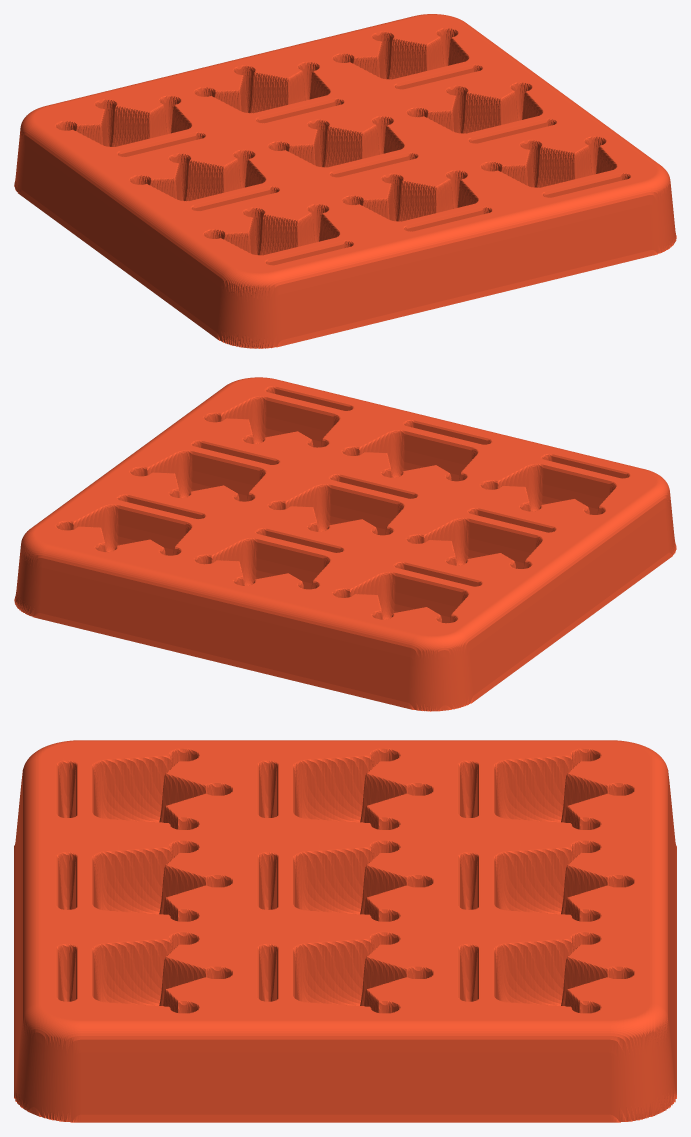
File: mold.glb
The picture shows the model from 3 angles, top to bottom: view 1: azimuth 30°, elevation 25°; view 2: azimuth 150°, elevation 25°; view 3: azimuth 270°, elevation 25°; orthographic projection. The views are drawn at different scales.
Visible parts, largest first — view 1: geometry_0; view 2: geometry_0; view 3: geometry_0.
Boxes of the visible parts, x1,y1,x2,y2 form: geometry_0: (14,14,676,348); geometry_0: (14,377,676,711); geometry_0: (14,740,676,1122).
Size of the model in its own units: 0.0964 by 0.0136 by 0.0898.
